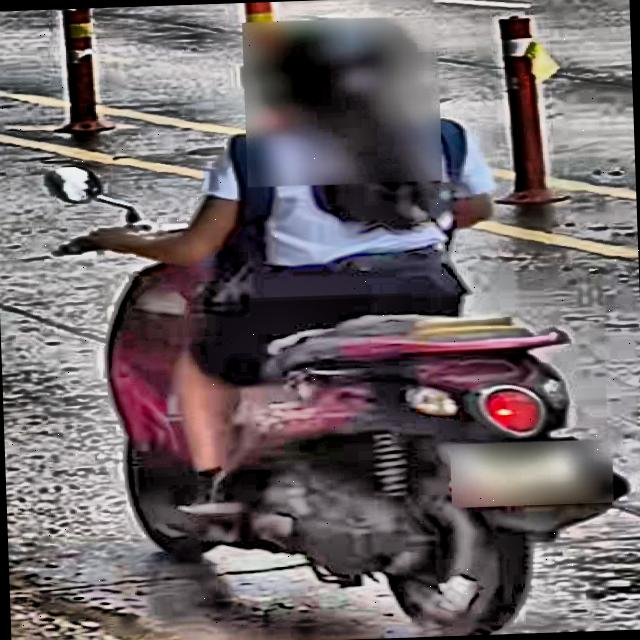motorcycle: (59, 135, 634, 640)
